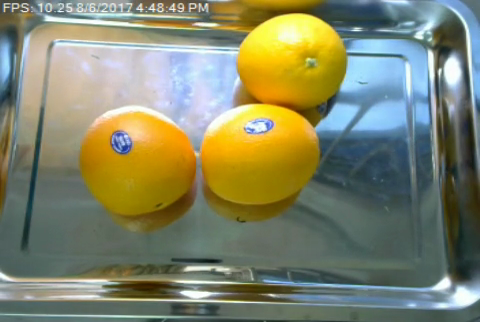Orange: (78, 106, 195, 216), (199, 103, 321, 206), (234, 11, 348, 110)
